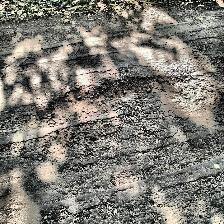pothole: (50, 73, 178, 121)
